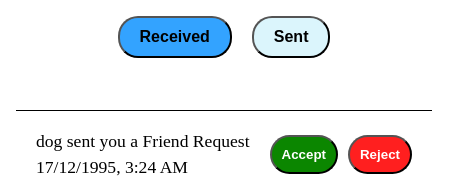
Test: User Requests › Renders No Results Message › shows No Sent Requests
The width and height of the screenshot is (449, 193).
Click the button "Sent". click: (291, 37)
box: [252,16,330,58]
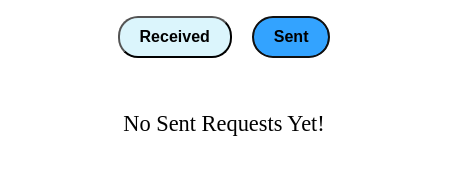
Check: the text "No Sent Requests Yet!" is shown, box [123,111,325,137]
